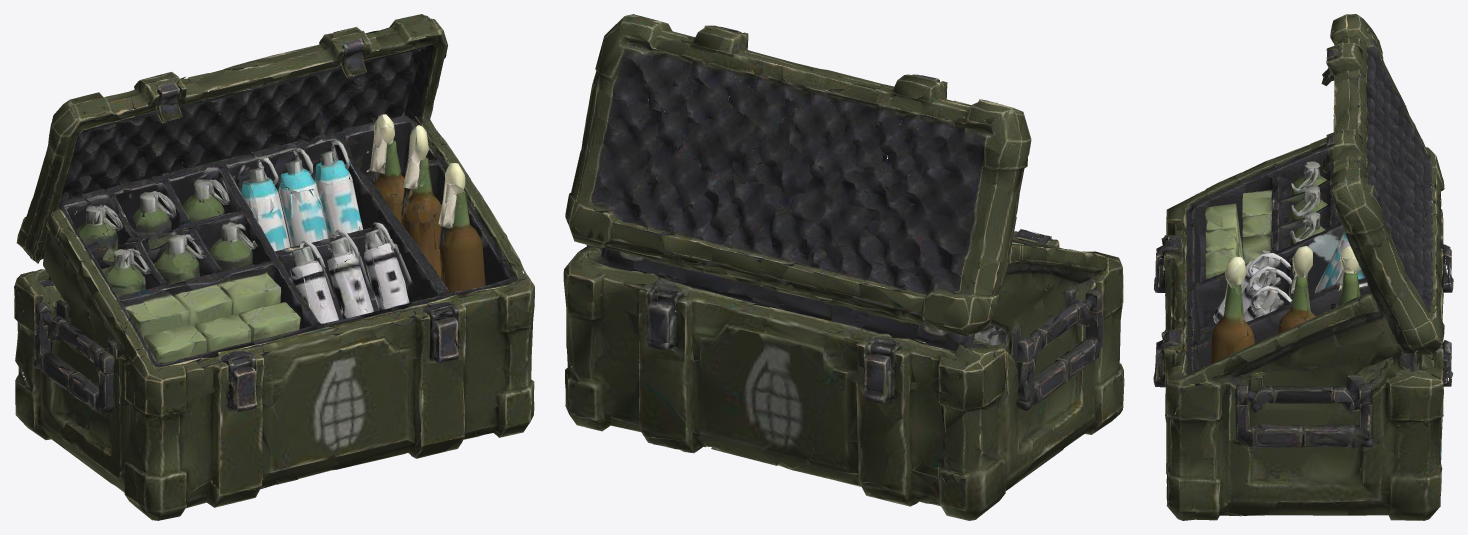
Rendered from ammo_crate.glb.
The picture shows the model from 3 angles, left to right: view 1: azimuth 30°, elevation 25°; view 2: azimuth 150°, elevation 25°; view 3: azimuth 270°, elevation 25°; orthographic projection. The views are drawn at different scales.
Visible parts, largest first — view 1: Mesh_0; view 2: Mesh_0; view 3: Mesh_0.
Boxes of the visible parts, left/top/right/bottom form: Mesh_0: left=14, top=14, right=534, bottom=520; Mesh_0: left=563, top=14, right=1124, bottom=520; Mesh_0: left=1153, top=14, right=1453, bottom=520.
Bounding box in the file's own units: 0.6095 × 0.5 × 0.3971.
1 material, 1 textured.
